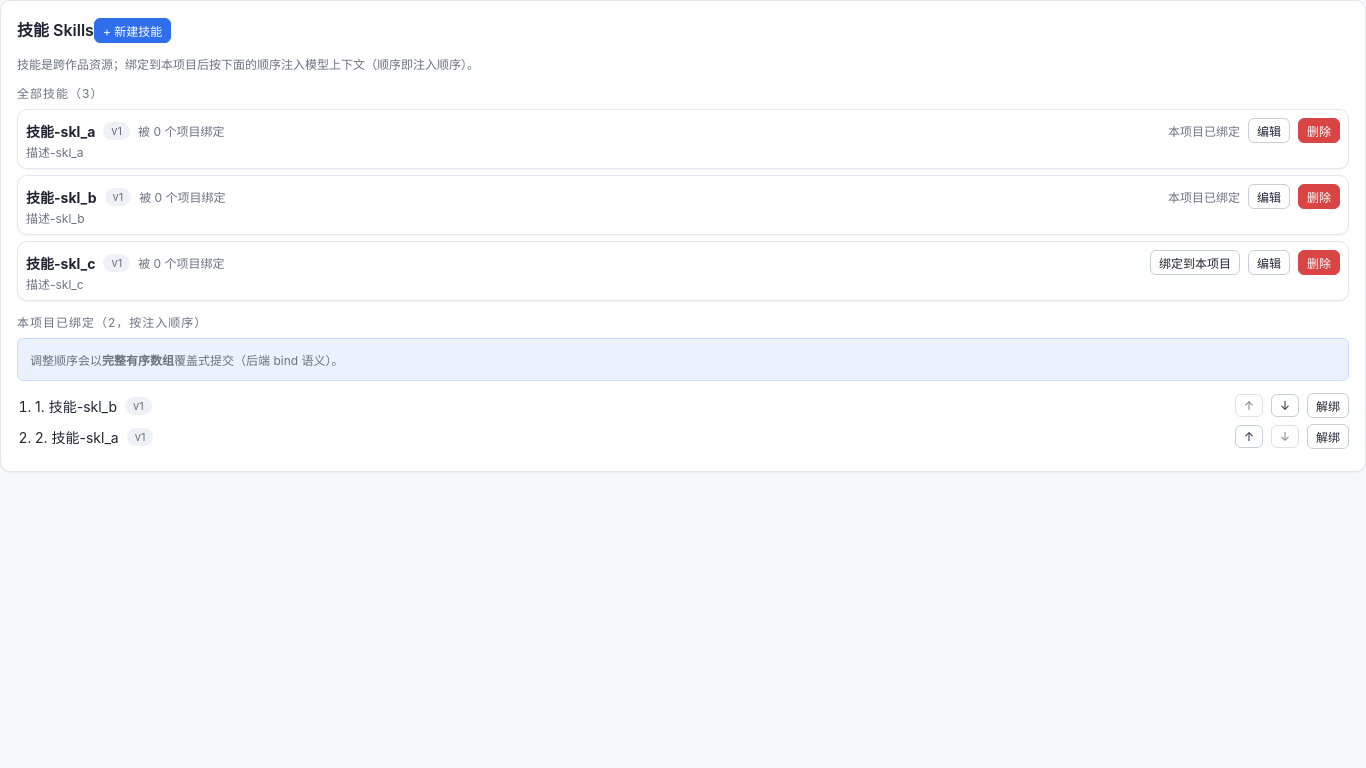
Scenario: SkillsPanel（C-45③） › 删除被绑定的技能遇 409 ⇒ 明确提示先解绑，不静默
Click the button with test id "skill-delete-skl_b".
click(1319, 196)  # box [1298,184,1340,209]
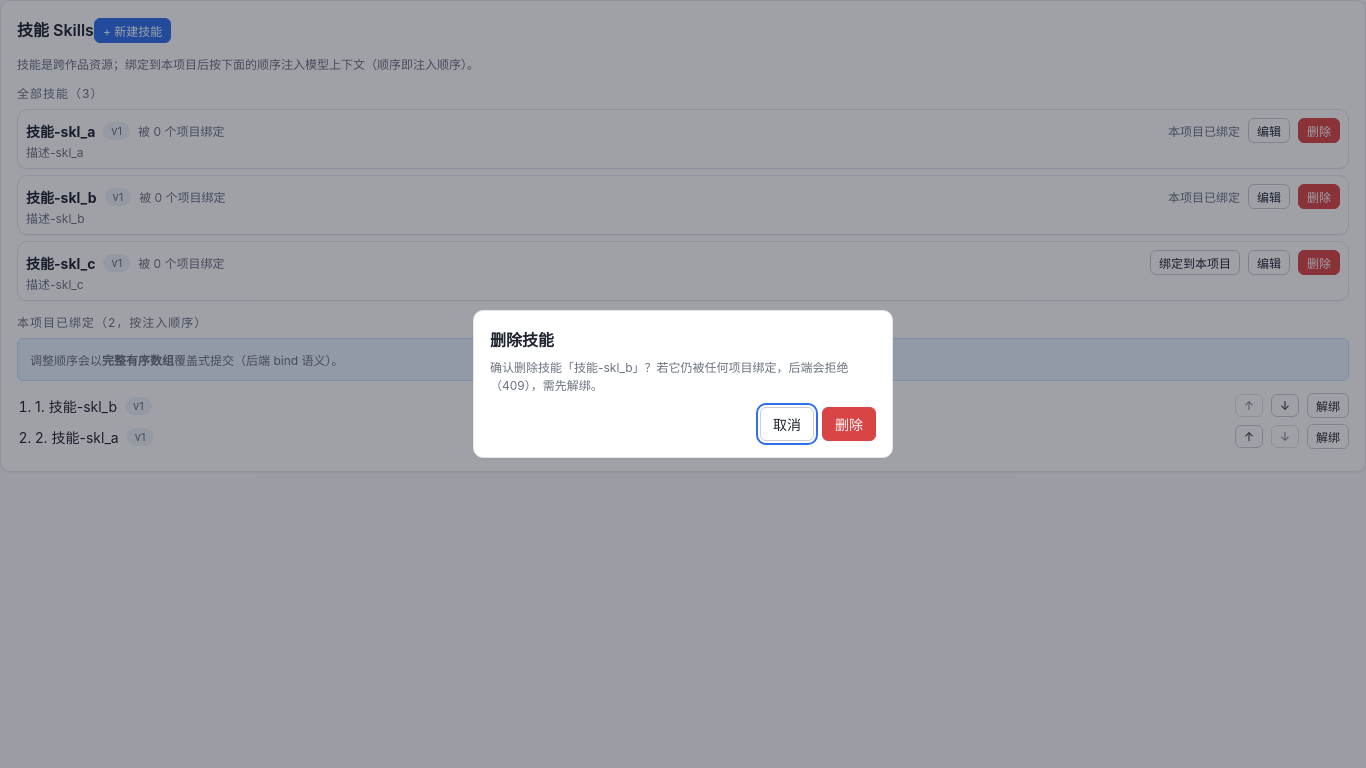
Click the button with test id "skill-delete-confirm-confirm".
click(849, 424)  # box [822,407,876,441]
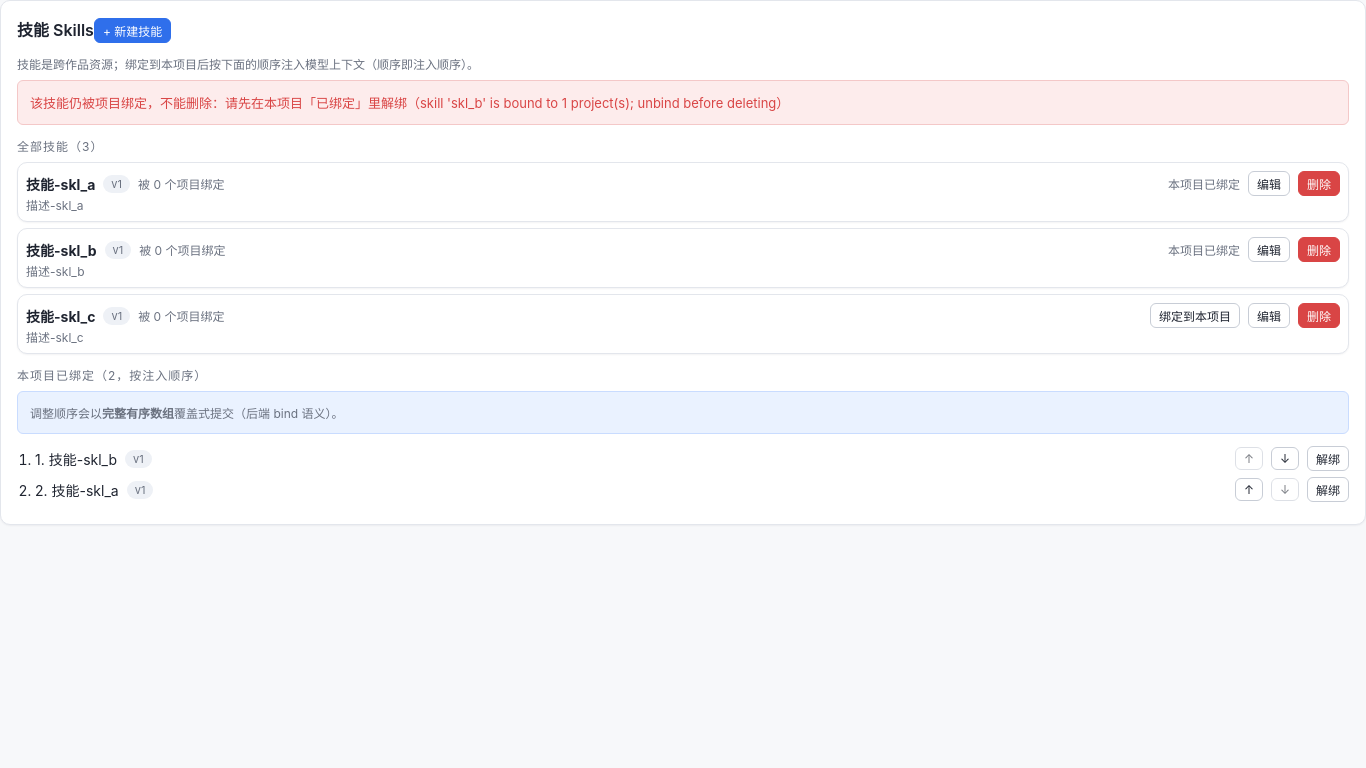
Expected: the text "请先在本项目「已绑定」里解绑" is shown, [30,95,789,111]
